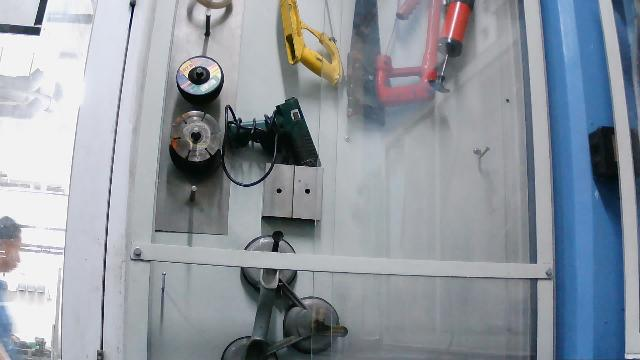gun_lem: (219, 96, 324, 188)
